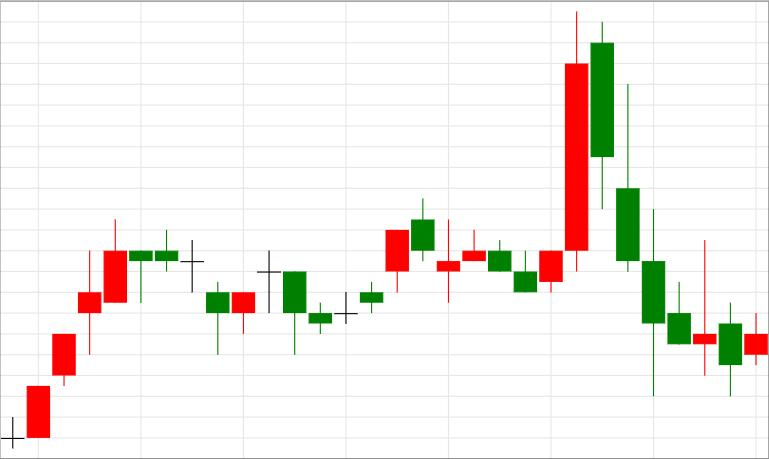three_black_crows_fall: (514, 11, 665, 396)
